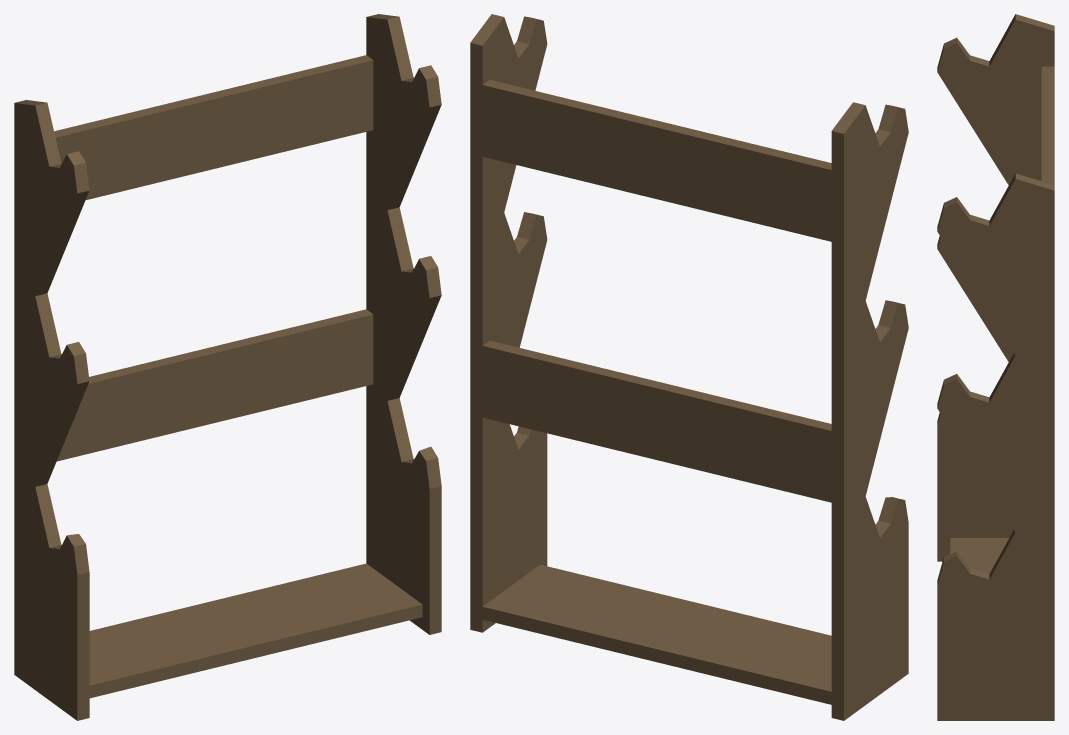
The model's file is weapon rack 002.fbx.
3 renders of one model, left to right at view 1: azimuth 30°, elevation 25°; view 2: azimuth 150°, elevation 25°; view 3: azimuth 270°, elevation 25°, orthographic. The views are drawn at different scales.
Visible parts, largest first — view 1: Rifle rack 002; view 2: Rifle rack 002; view 3: Rifle rack 002.
Part boxes in pixels (left/top/right/bottom): Rifle rack 002: left=14, top=14, right=441, bottom=720; Rifle rack 002: left=470, top=14, right=908, bottom=720; Rifle rack 002: left=937, top=14, right=1054, bottom=720.
Bounding box in the file's own units: 60 × 92 × 18.
